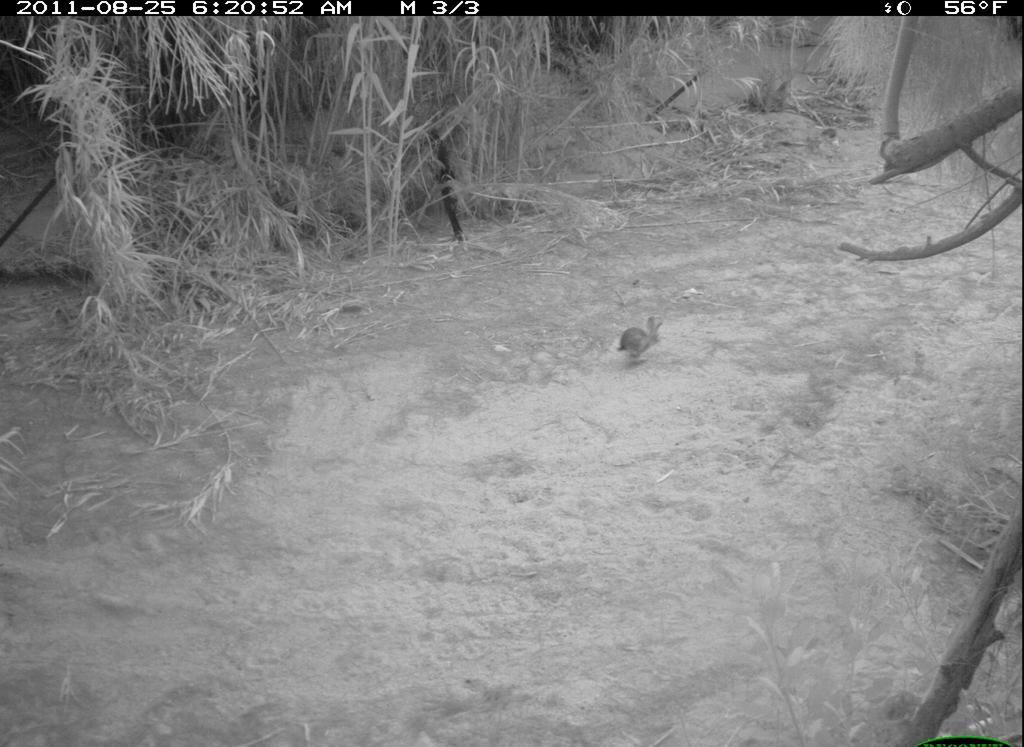rabbit: (612, 304, 685, 373)
